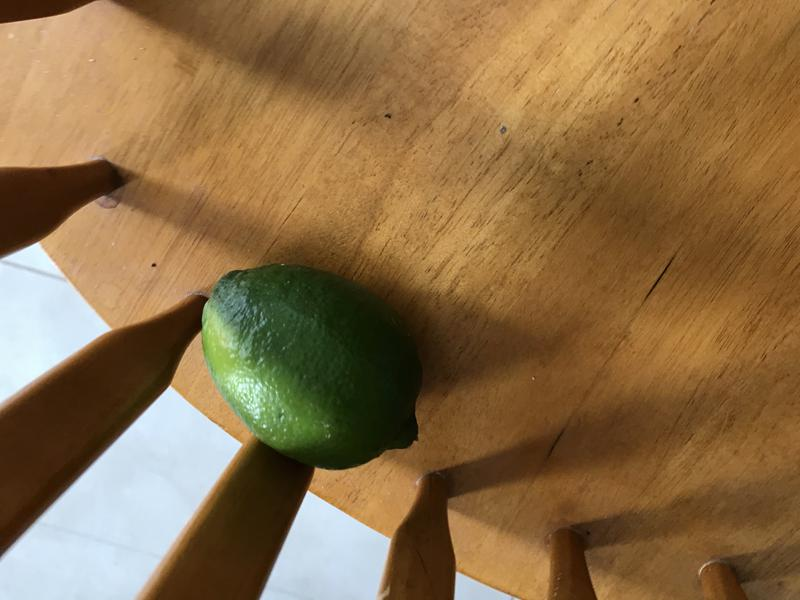lime: (192, 258, 443, 480)
